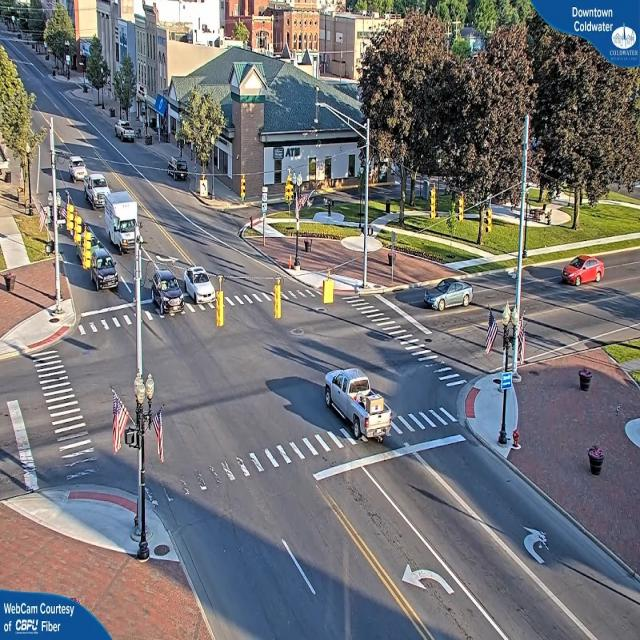car: (323, 366, 391, 444), (148, 266, 183, 317), (86, 240, 120, 291), (561, 254, 606, 290), (425, 277, 474, 310), (182, 268, 215, 305), (84, 174, 109, 210), (165, 158, 189, 180), (116, 123, 136, 143)
truck: (106, 192, 143, 252)
